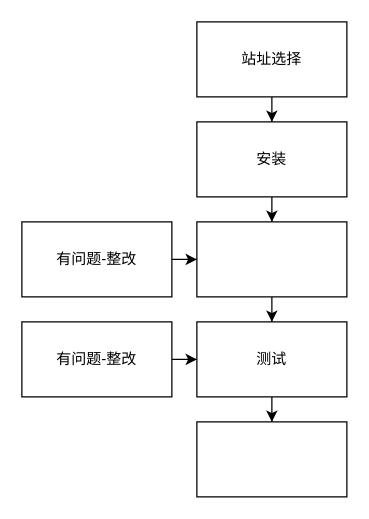
Some shapes in this 369 by 519 pixel diagram are drawn without their labels. Each missing label, with the centre of its shape:
无问题-结束: (271,459)
调试: (271,259)
